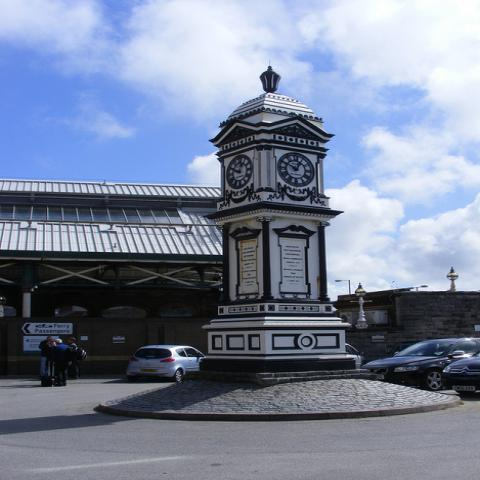car: (358, 336, 479, 391), (126, 344, 206, 383), (441, 353, 479, 396), (345, 343, 365, 370)
